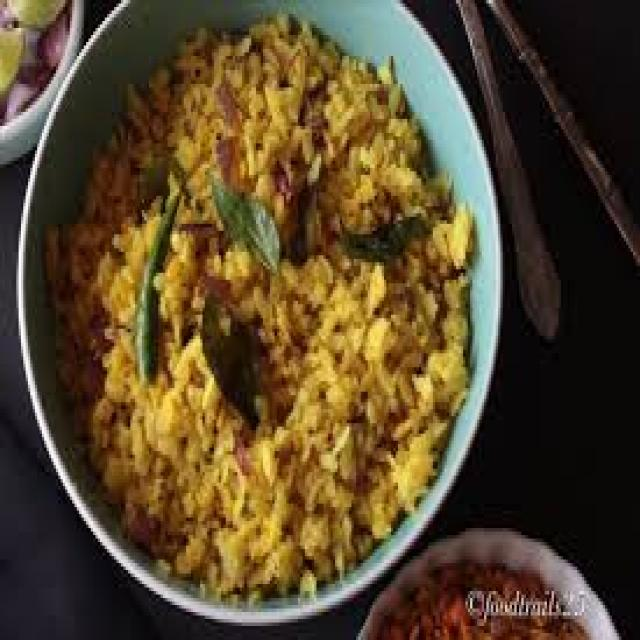POHA: (51, 12, 483, 599)
